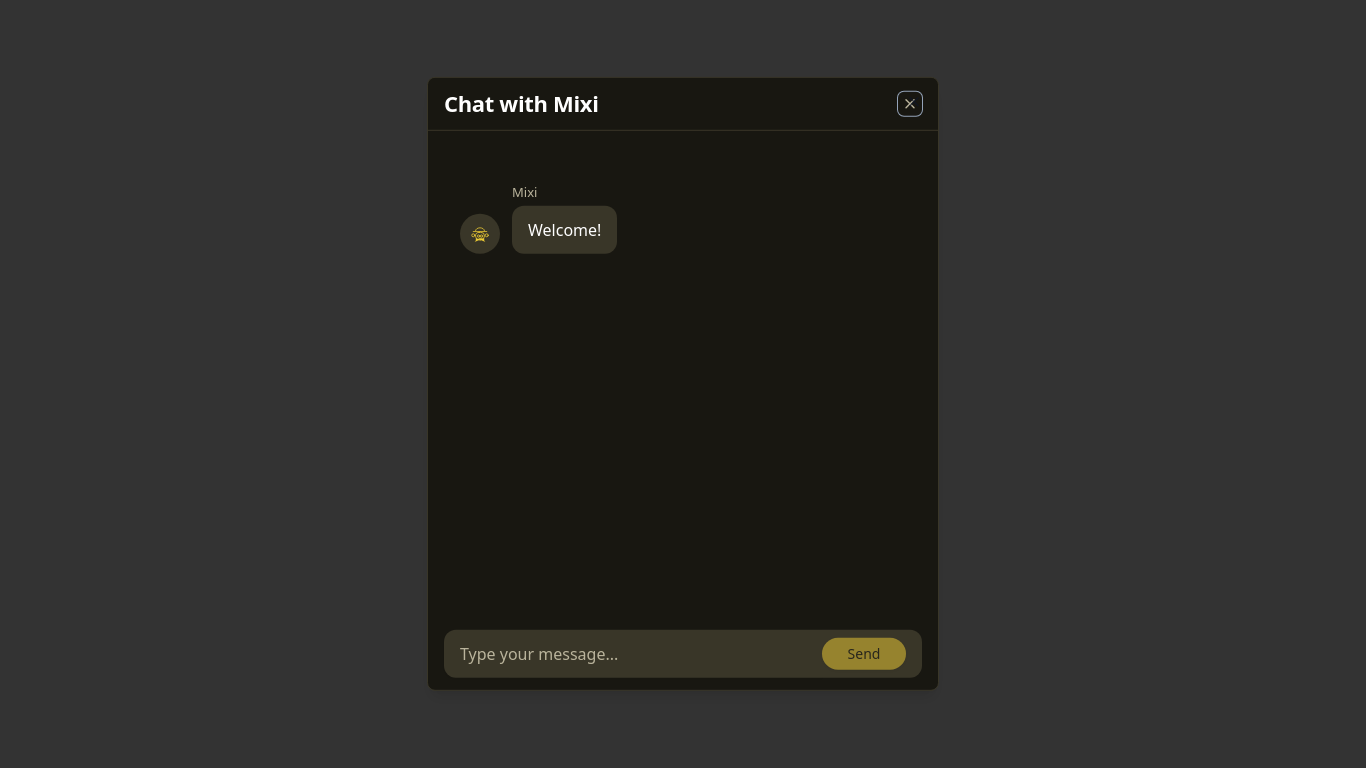
Scenario: MixiChat Streaming Tests › Stream completion behavior › should handle [DONE] sentinel correctly
Type "Hello" into the field with test id "mixi-chat-input" at (633,654), box 444,630 -> 822,678
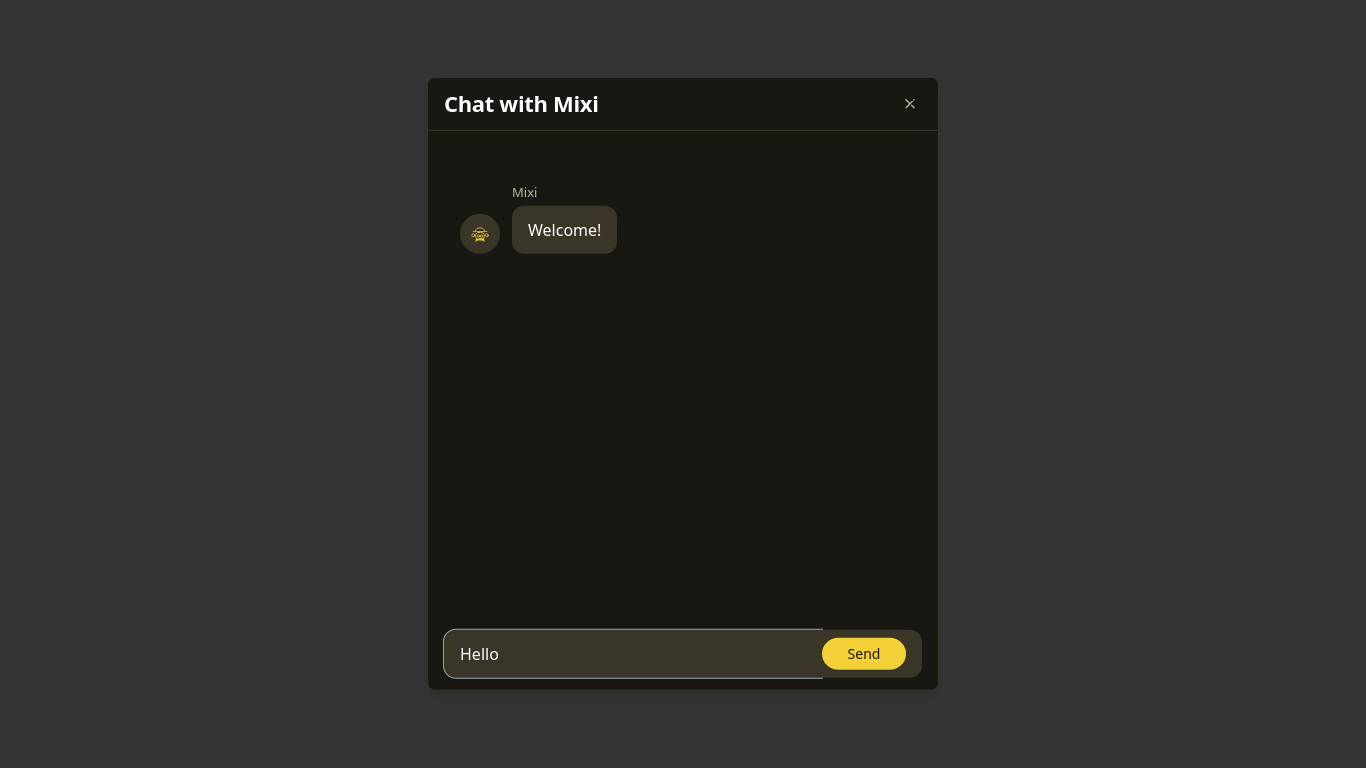
Click the button with test id "mixi-chat-send-button" at (864,654), box 822,638 -> 906,670
Wait 100 ms
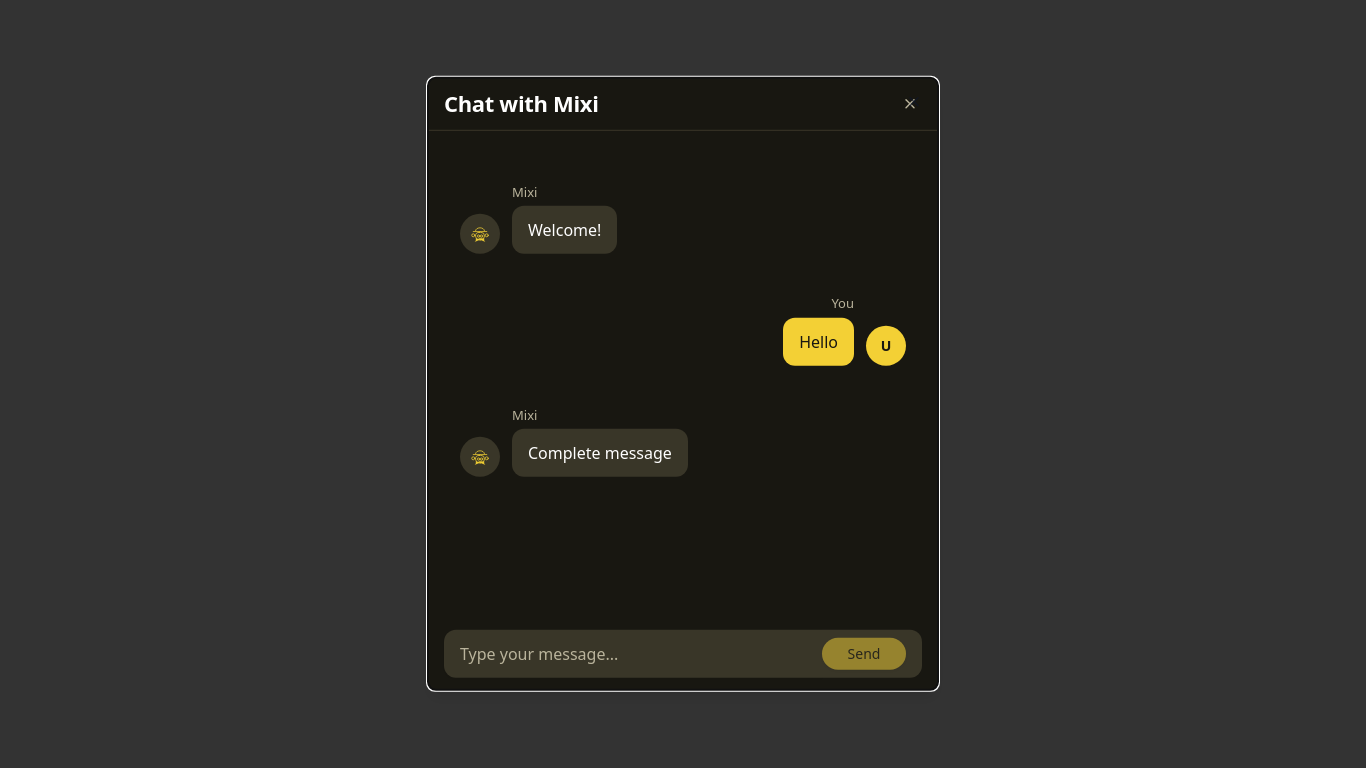
Expected: the field with test id "mixi-chat-input" is enabled, 444,630 -> 822,678
Now the element with test id "mixi-chat-messages" shows "Complete message", box 528,442 -> 672,464
